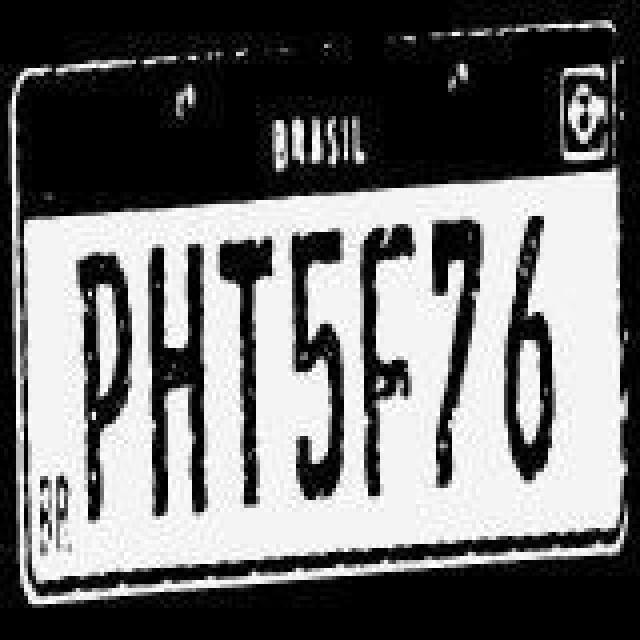5: (284, 226, 356, 510)
6: (500, 216, 572, 488)
7: (426, 214, 494, 490)
F: (356, 222, 420, 498)
H: (142, 232, 218, 536)
P: (64, 238, 144, 538)
T: (222, 228, 290, 524)
